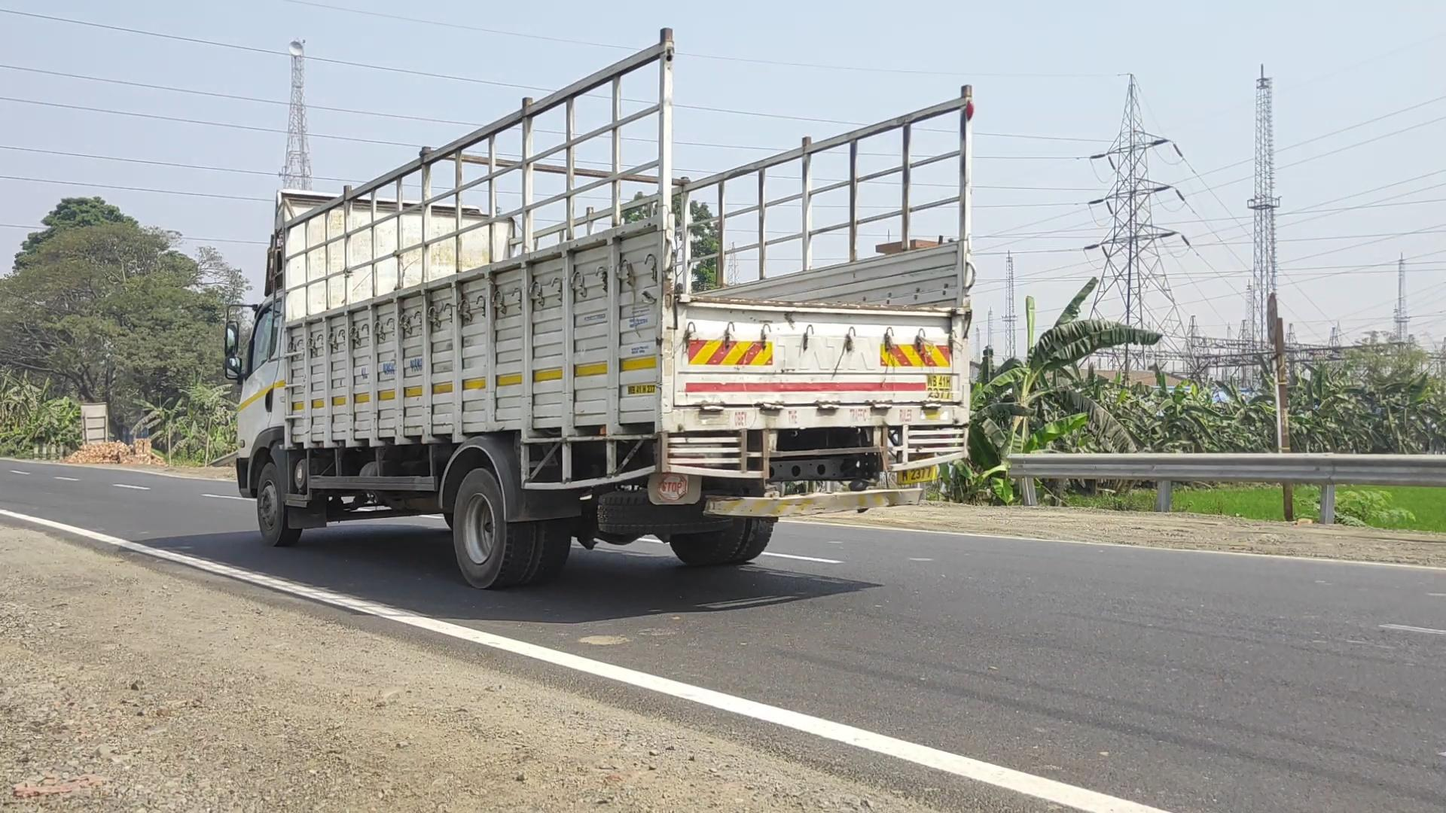van: (221, 30, 977, 589)
